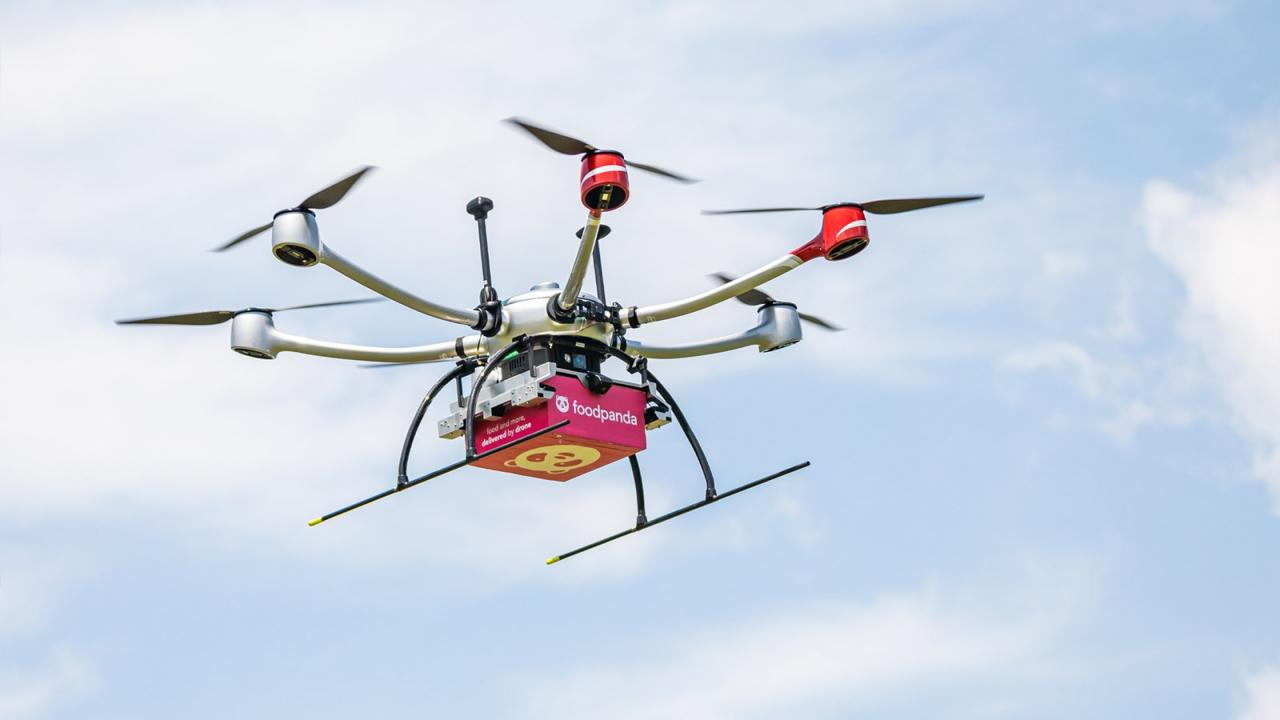Drone: (90, 100, 1016, 591)
